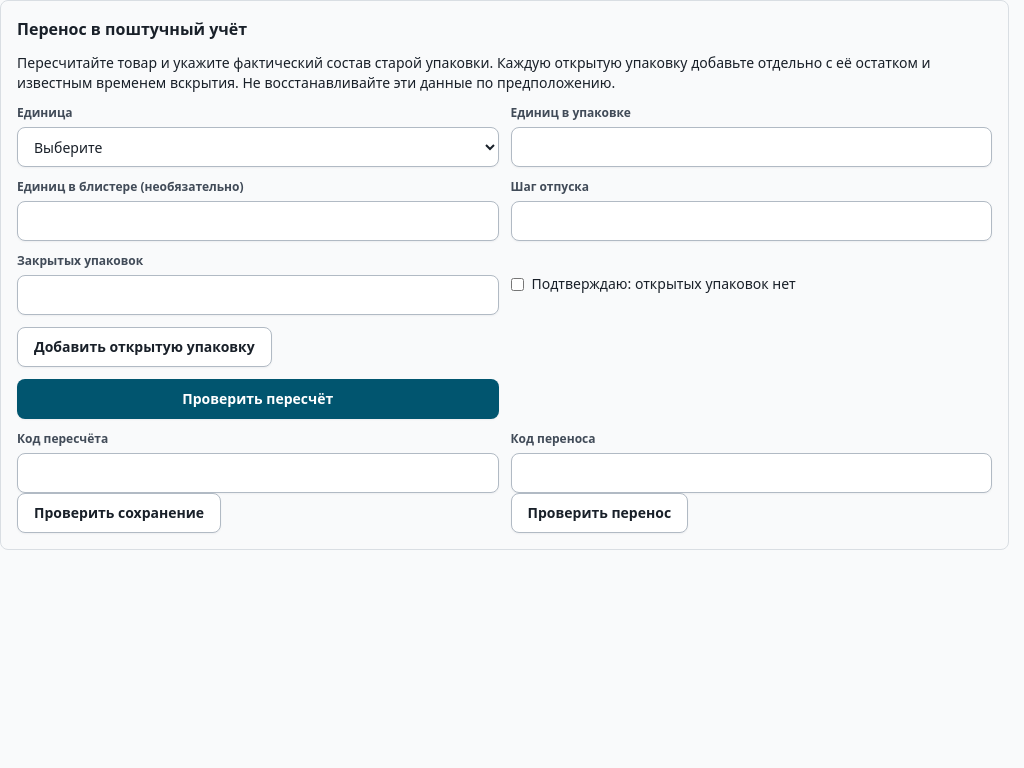
Test: explicit closed-pack legacy transition › rejects invalid physical input: Единиц в упаковке=0 before any request
Select "Таблетка" in the dropdown labelled "Единица". click: (258, 147)
box: [17,127,498,167]
Type "20" into the field labelled "Единиц в упаковке". click: (751, 147)
box: [510,127,992,167]
Type "10" into the field labelled "Единиц в блистере (необязательно)". click: (258, 221)
box: [17,201,498,241]
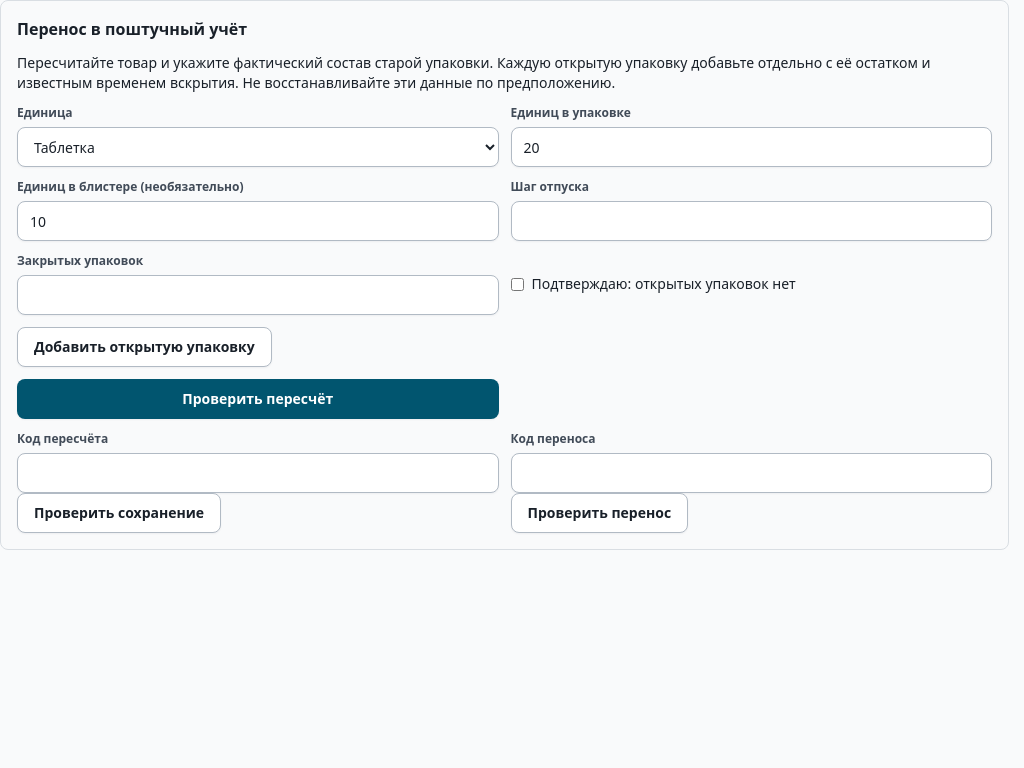
Type "1" into the field labelled "Шаг отпуска". click: (751, 221)
box: [510,201,992,241]
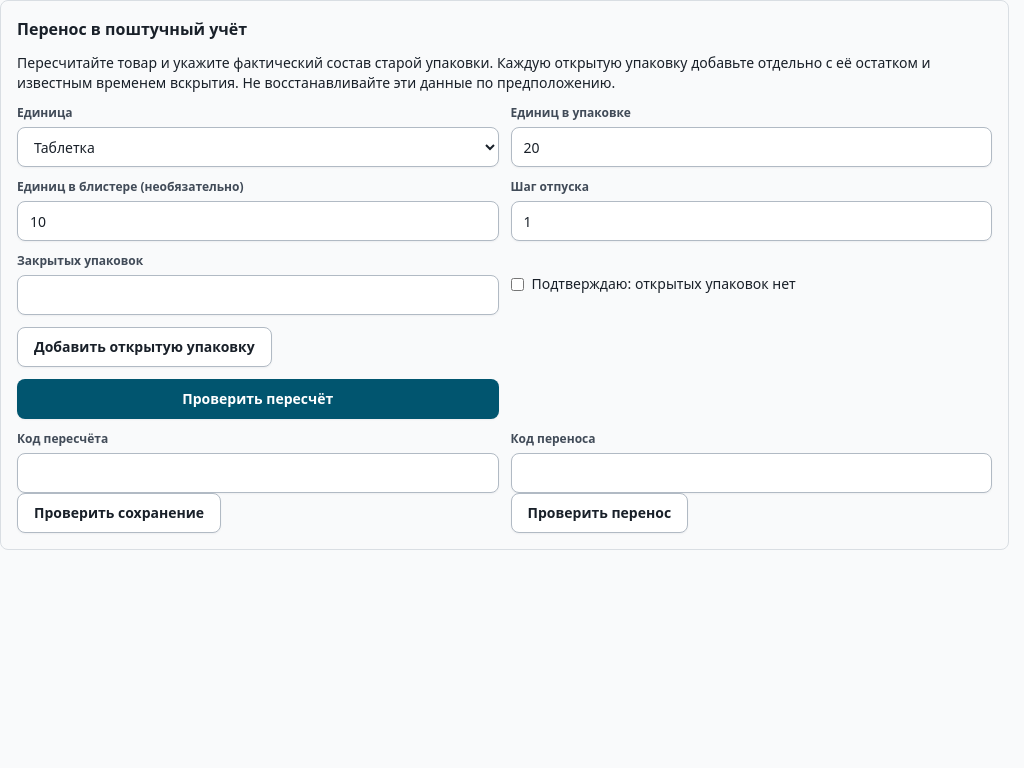
Type "4" into the field labelled "Закрытых упаковок". click: (258, 295)
box: [17,275,498,315]
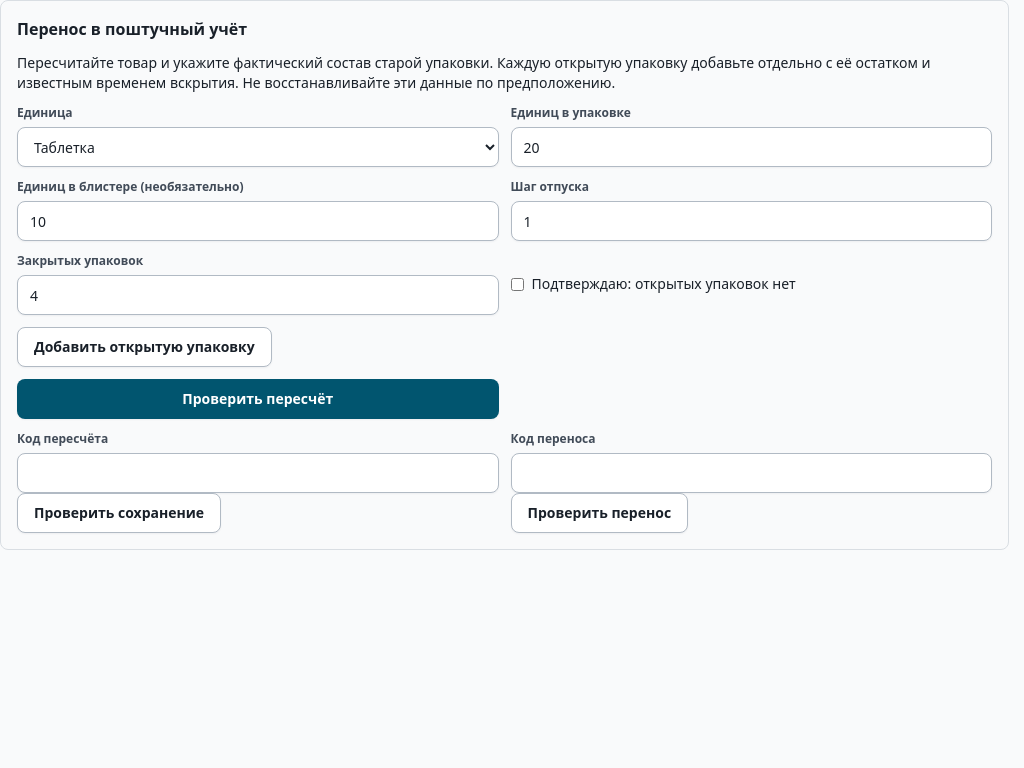
Click the checkbox labelled "Подтверждаю: открытых упаковок нет". click: (517, 284)
box: [510,278,524,290]
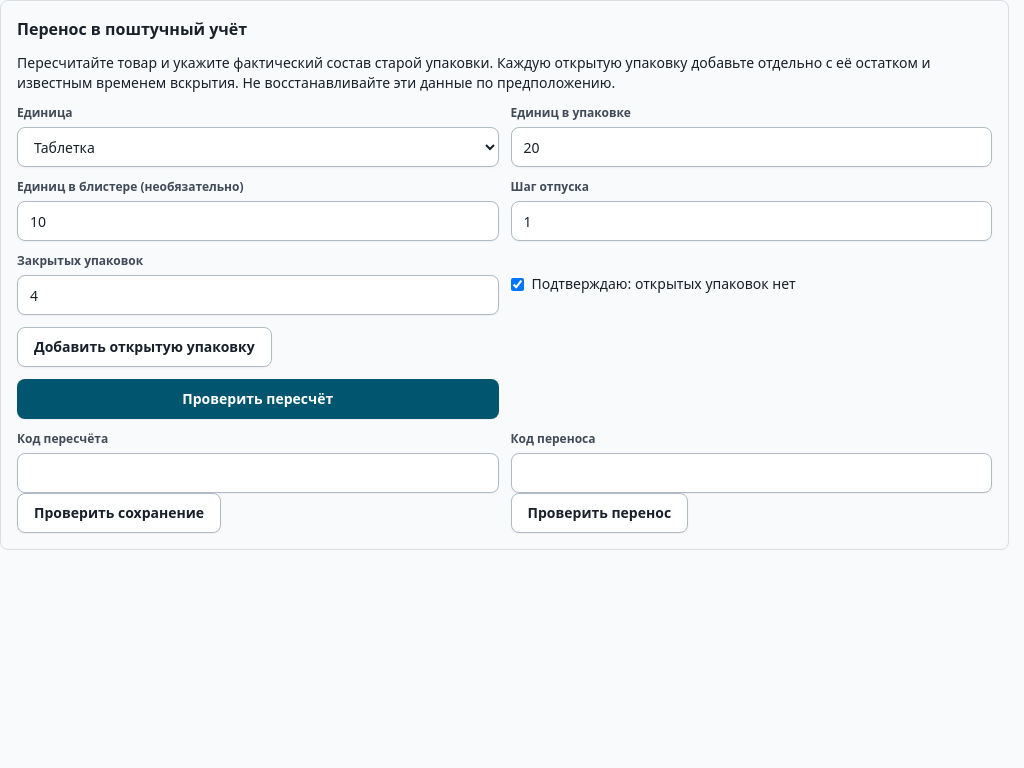
Replace the text in the field labelled "Единиц в упаковке" with "0". click: (751, 147)
box: [510,127,992,167]
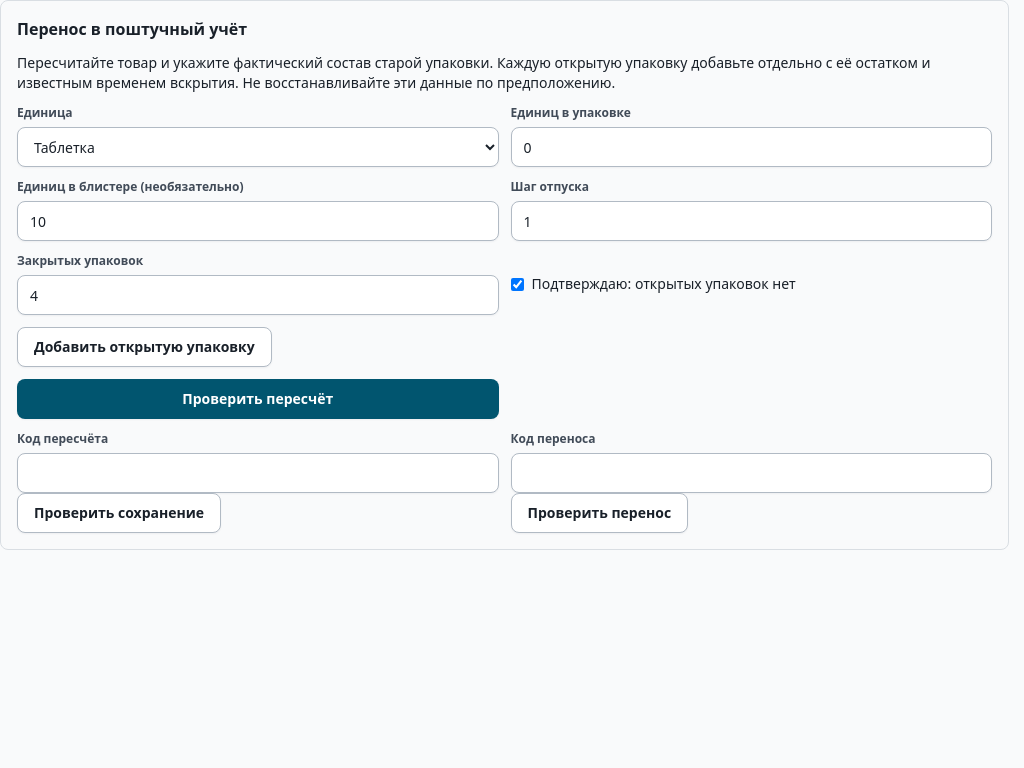
Click the button "Проверить пересчёт". click: (258, 399)
box: [17,379,498,419]
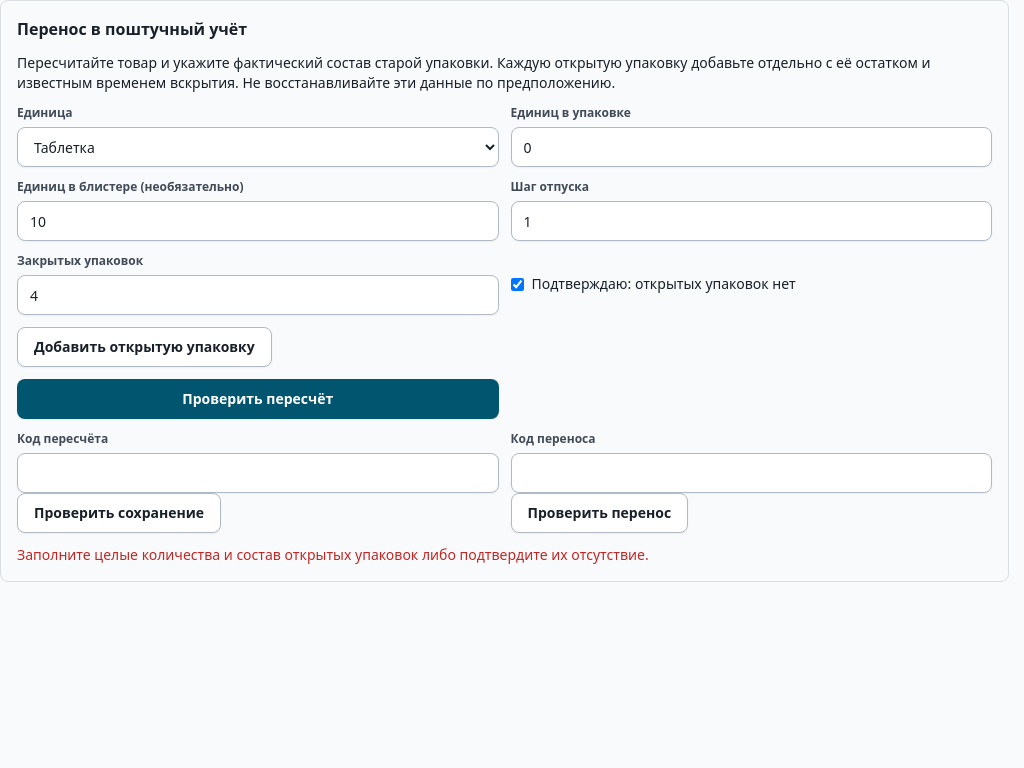
Result: the message is shown at [17,545,649,564]
